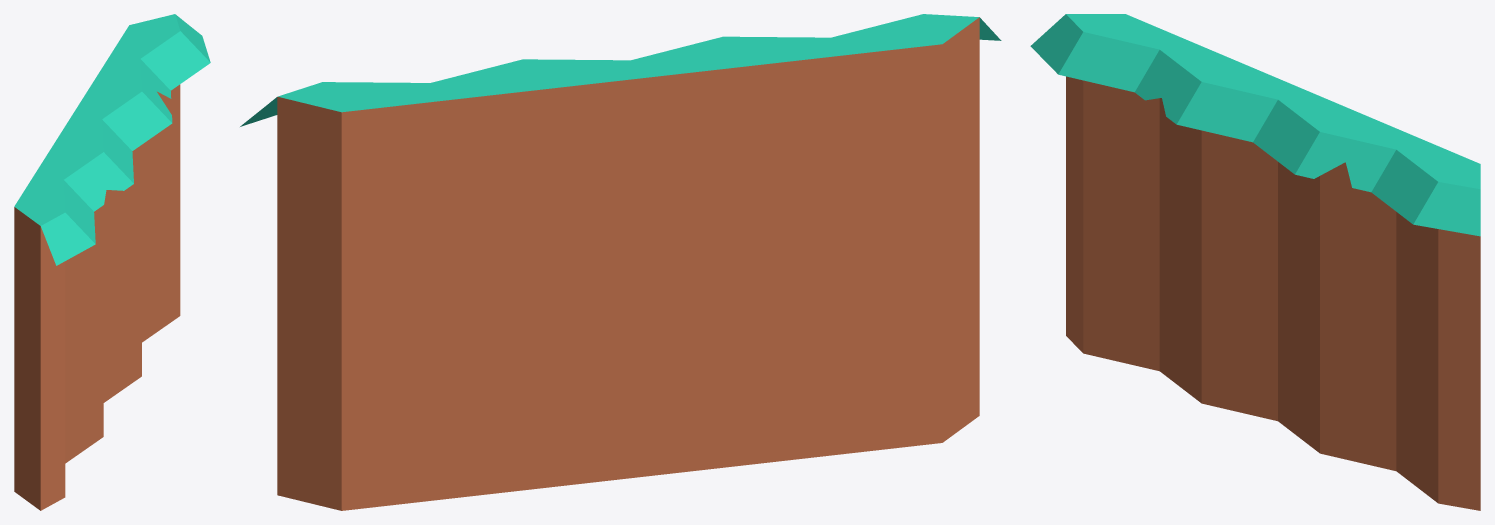
Rendered from cliff_topDiagonal_rock.dae.
3 renders of one model, left to right at view 1: azimuth 30°, elevation 25°; view 2: azimuth 150°, elevation 25°; view 3: azimuth 270°, elevation 25°, orthographic. The views are drawn at different scales.
Parts seen in each view (by area): view 1: cliff_topDiagonal_rock; view 2: cliff_topDiagonal_rock; view 3: cliff_topDiagonal_rock.
Part boxes in pixels (x1=…): cliff_topDiagonal_rock: x1=14, y1=14, x2=210, y2=510; cliff_topDiagonal_rock: x1=240, y1=14, x2=1001, y2=510; cliff_topDiagonal_rock: x1=1030, y1=14, x2=1480, y2=510.
Size of the model in its own units: 1.27 by 1 by 1.27.
